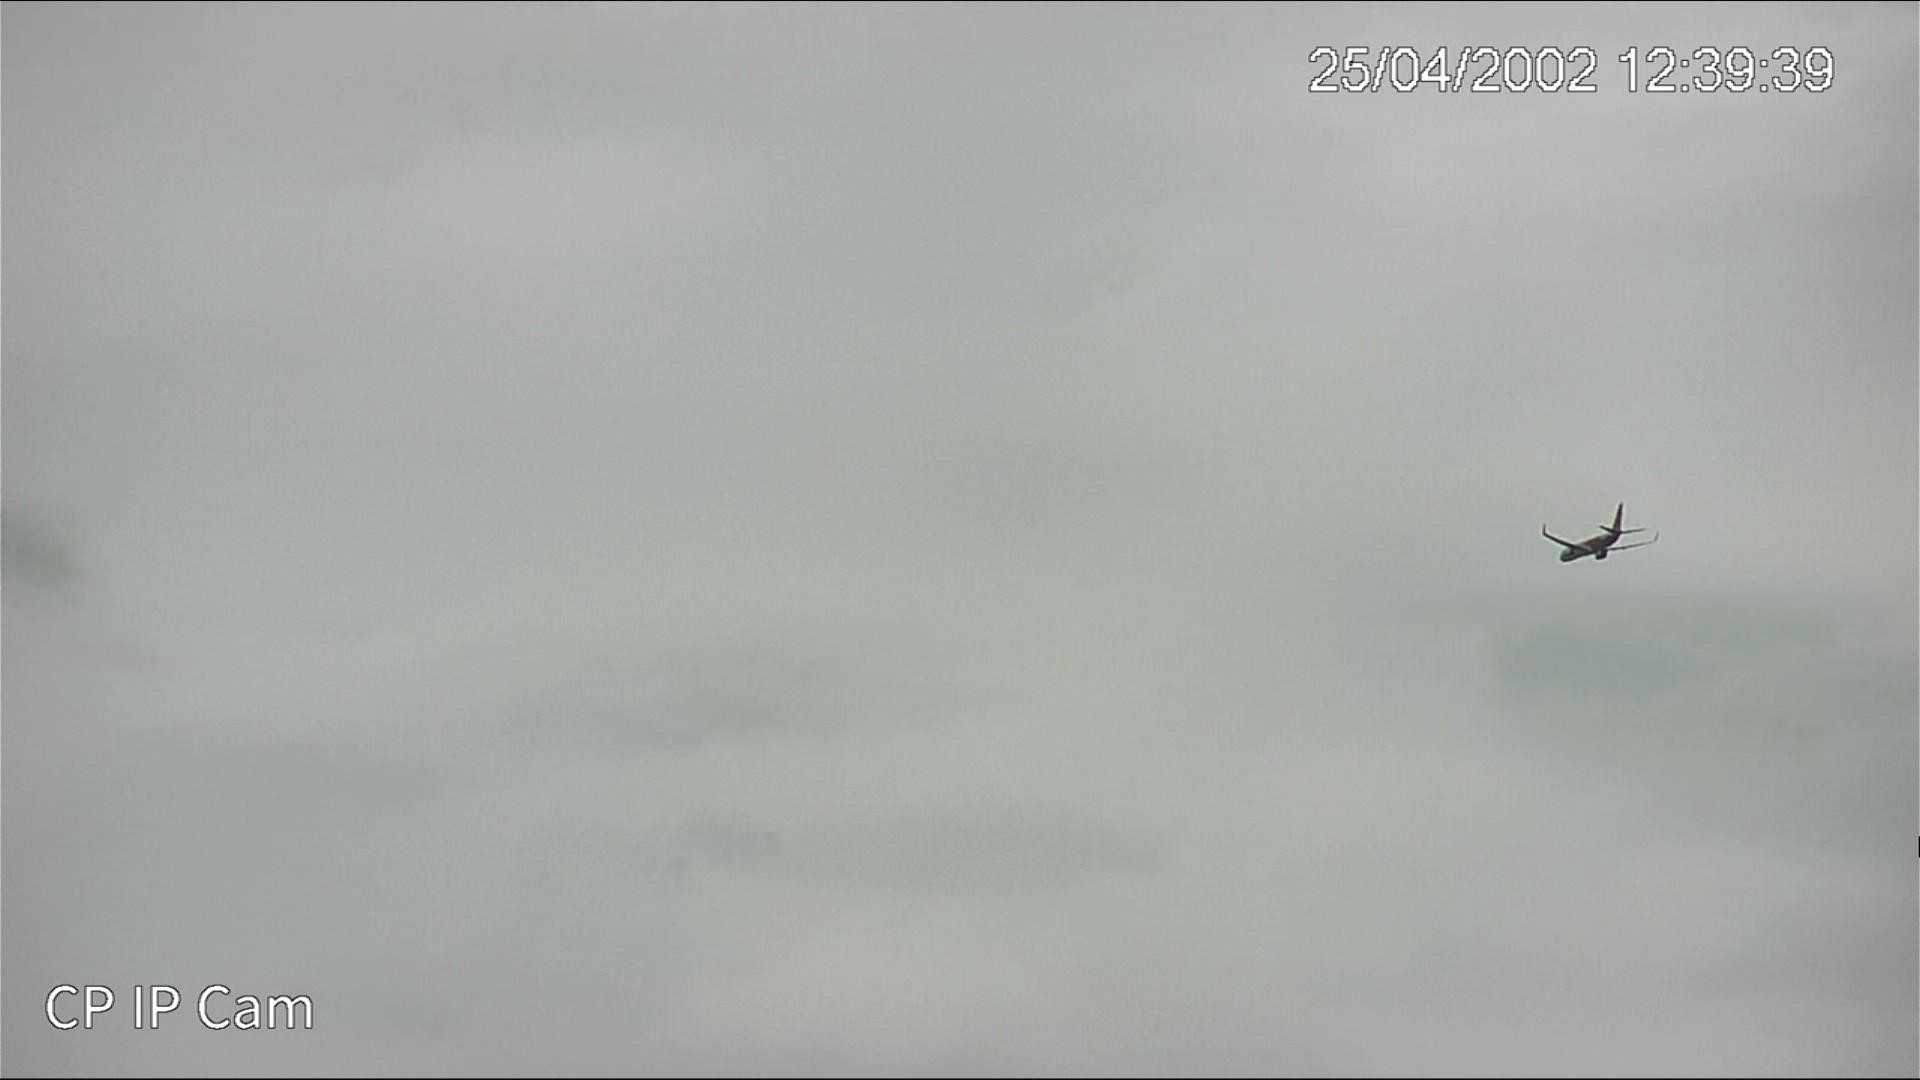SU_30: (1540, 502, 1655, 567)
